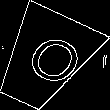O_SW: (9, 27, 80, 92)
